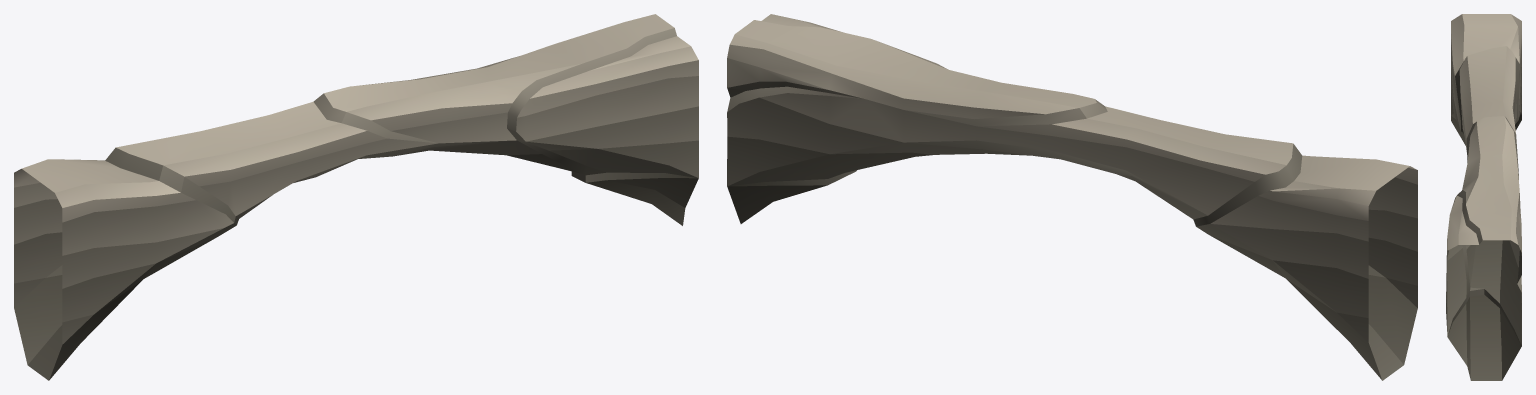
File: Canyon_Overpass_1A.fbx
3 renders of one model, left to right at view 1: azimuth 30°, elevation 25°; view 2: azimuth 150°, elevation 25°; view 3: azimuth 270°, elevation 25°, orthographic. The views are drawn at different scales.
Parts seen in each view (by area): view 1: Canyon_Overpass_1A; view 2: Canyon_Overpass_1A; view 3: Canyon_Overpass_1A.
Boxes of the visible parts, x1,y1,x2,y2 form: Canyon_Overpass_1A: [14, 14, 698, 380]; Canyon_Overpass_1A: [727, 14, 1417, 380]; Canyon_Overpass_1A: [1446, 14, 1521, 380].
Size of the model in its own units: 40 by 11.95 by 5.68.
